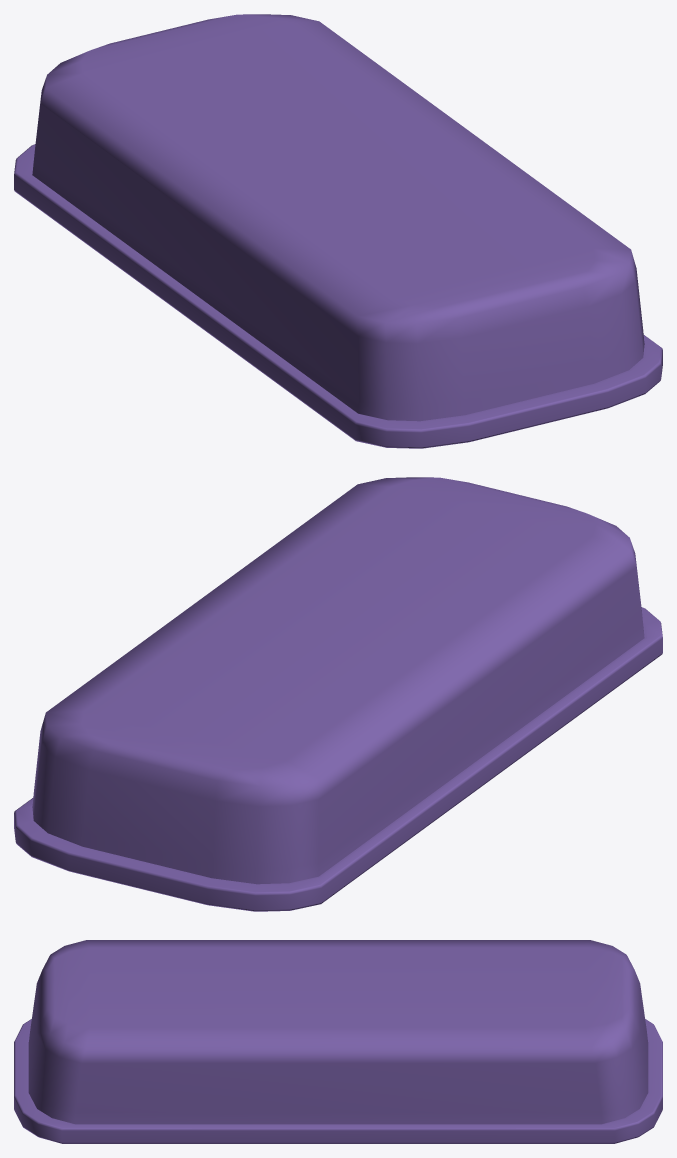
Rendered from MOD_BAR RectangularButton.fbx.
3 views of the same model, one above another, from view 1: azimuth 30°, elevation 25°; view 2: azimuth 150°, elevation 25°; view 3: azimuth 270°, elevation 25° (orthographic). The views are drawn at different scales.
Visible parts, largest first — view 1: Button, ButtonBody; view 2: Button, ButtonBody; view 3: Button, ButtonBody.
Boxes of the visible parts, x1,y1,x2,y2 form: Button: (32,14,644,421); ButtonBody: (14,144,662,448); Button: (32,477,644,884); ButtonBody: (14,607,662,911); Button: (28,940,648,1124); ButtonBody: (14,1019,662,1143).
Size of the model in its own units: 7.6 by 2.8 by 17.15.
